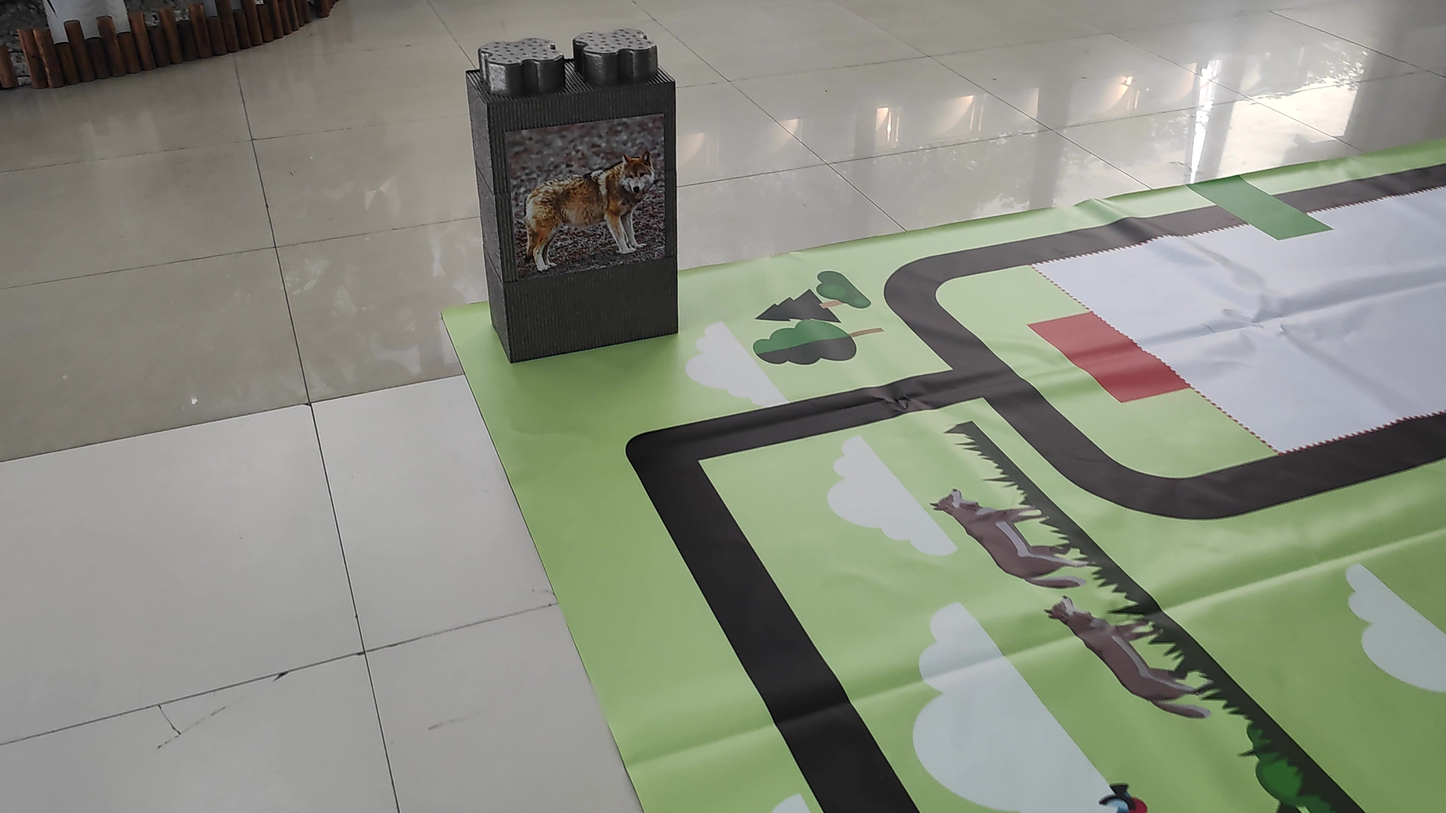wolf: (523, 146, 665, 275)
